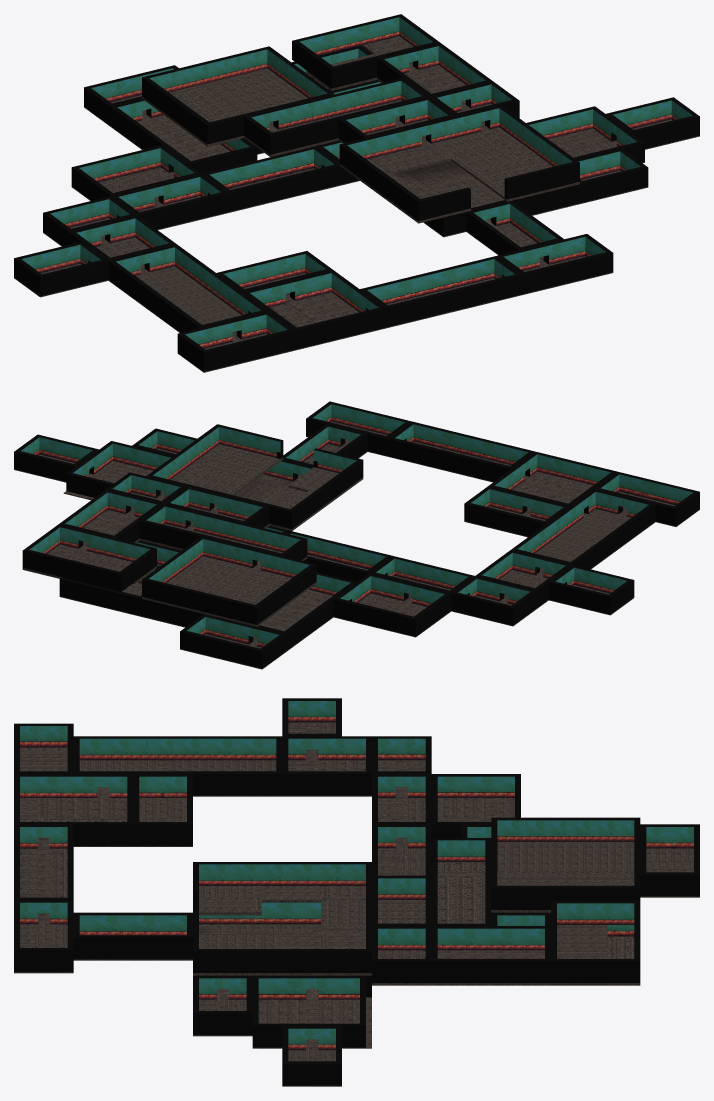
Rendered from demo_level.fbx.
3 views of the same model, one above another, from view 1: azimuth 30°, elevation 25°; view 2: azimuth 150°, elevation 25°; view 3: azimuth 270°, elevation 25° (orthographic). The views are drawn at different scales.
Parts seen in each view (by area): view 1: WALL_07, FLOOR_07, WALL_07_a2, WALL_06_a4, WALL_07_a1, WALL_06_a2, WALL_05, WALL_07_b2, WALL_06_a3, WALL_06_a2_a, FLOOR_7_a2, WALL_01 (+28 smaller); view 2: WALL_07_a2, WALL_07, WALL_07_b2, WALL_06_a4, WALL_07_a1, FLOOR_07, WALL_06_a2, WALL_06_b, FLOOR_7_a2, WALL_06_b1_a, WALL_06_a3_a, WALL_06_a1_a (+27 smaller); view 3: WALL_07, FLOOR_07, WALL_06_a2, WALL_07_a2, FLOOR_7_a2, WALL_07_b1, WALL_02, WALL_07_b2, WALL_06_a3, WALL_03_a, WALL_06_a1, WALL_06_b1_a (+39 smaller).
Part boxes in pixels (x1,y1,x2,y2): WALL_07: (339,105,579,220); FLOOR_07: (339,127,579,223); WALL_07_a2: (142,46,334,144); WALL_06_a4: (360,256,522,327); WALL_07_a1: (244,78,428,154); WALL_06_a2: (108,244,268,337); WALL_05: (202,146,341,211); WALL_07_b2: (292,14,440,88); WALL_06_a3: (242,270,385,349); WALL_06_a2_a: (177,311,294,371); FLOOR_7_a2: (142,68,307,146); WALL_01: (496,234,613,293); WALL_07_a2: (142,536,316,624); WALL_07: (146,424,363,528); WALL_07_b2: (22,524,156,591); WALL_06_a4: (388,421,534,481); WALL_07_a1: (139,503,307,565); FLOOR_07: (158,444,363,530); WALL_06_a2: (511,489,655,572); WALL_06_b: (333,573,451,636); FLOOR_7_a2: (142,556,316,626); WALL_06_b1_a: (180,614,285,668); WALL_06_a3_a: (464,486,569,536); WALL_06_a1_a: (548,565,634,614); WALL_07: (193,862,371,972); FLOOR_07: (193,886,371,975); WALL_06_a2: (73,736,282,795); WALL_07_a2: (491,817,640,909); FLOOR_7_a2: (491,842,634,912); WALL_07_b1: (431,926,550,982); WALL_02: (73,912,192,959); WALL_07_b2: (551,901,640,982); WALL_06_a3: (14,774,133,845); WALL_03_a: (252,975,365,1047); WALL_06_a1: (282,736,371,795); WALL_06_b1_a: (640,824,699,896).
Size of the model in its own units: 29000 by 1740 by 23000.
